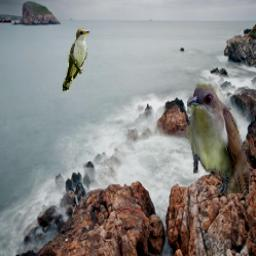Cuckoo: (187, 85, 251, 195), (62, 27, 89, 92)
